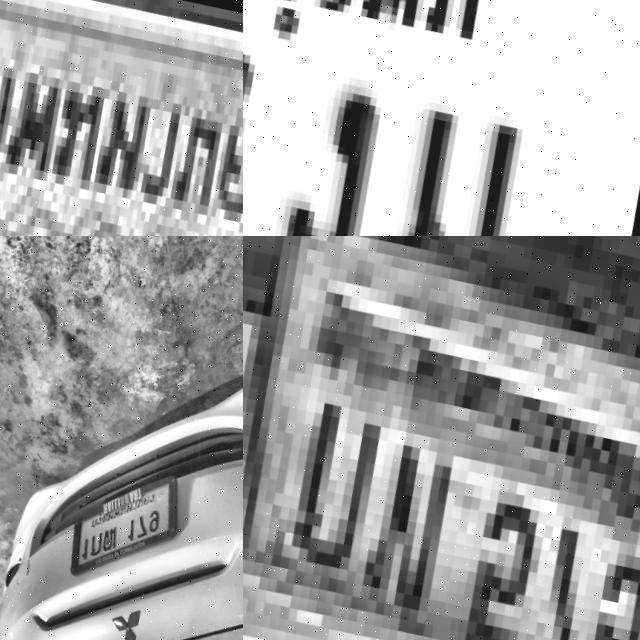license-plate: (243, 236, 640, 640), (243, 0, 640, 236), (0, 0, 243, 236), (56, 456, 180, 599)
